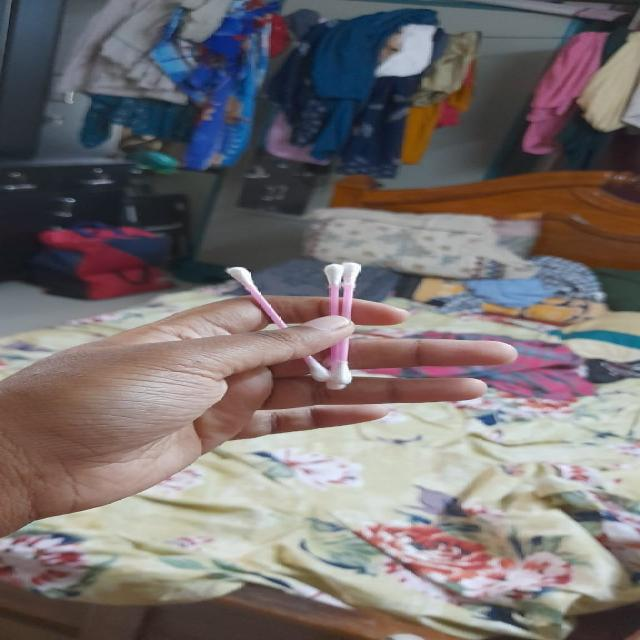Earbud - Non Recyclable: (222, 261, 366, 391), (317, 260, 363, 390)
